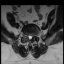CCS_normal: (29, 33, 30, 40)
LFS_severe_stenosis: (32, 33, 34, 38)
LLS_normal: (30, 34, 32, 40)
RFS_severe_stenosis: (25, 33, 27, 38)
RLS_normal: (27, 33, 29, 39)
